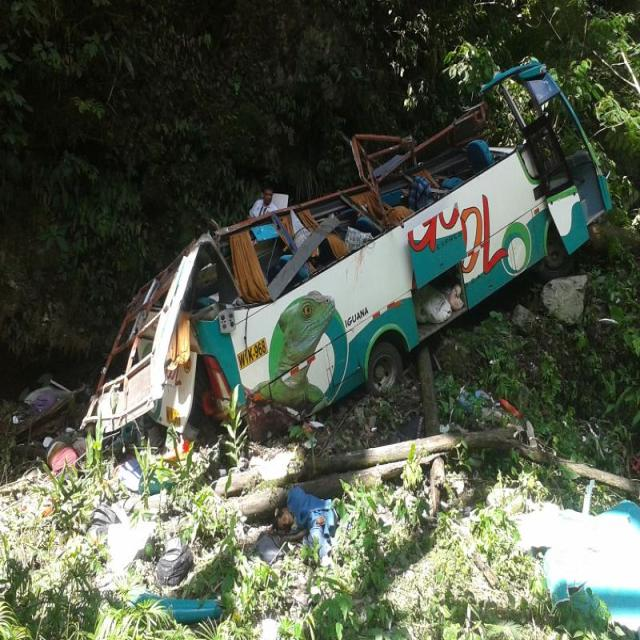Accident: (84, 61, 613, 447)
